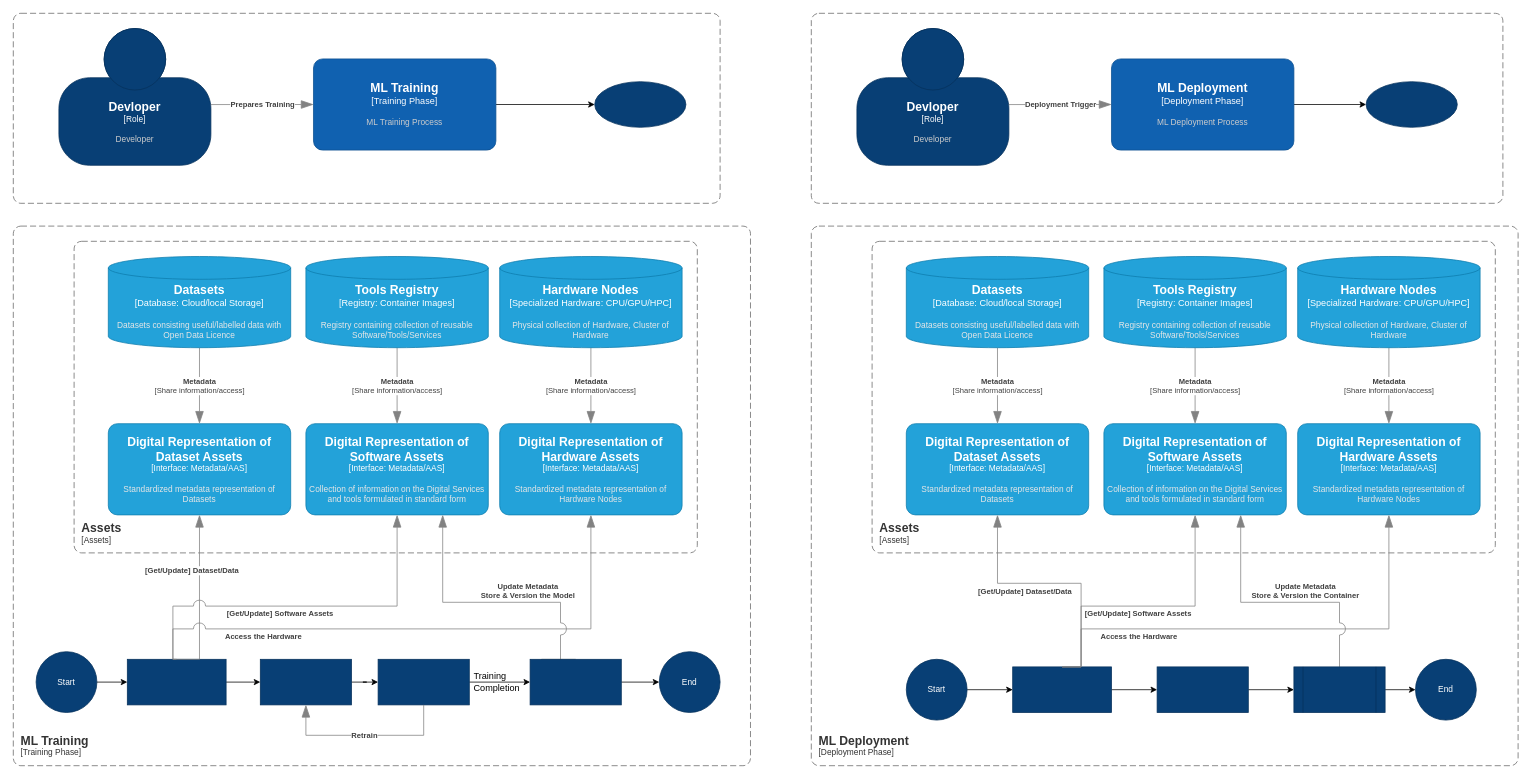
Some shapes in this 1531 by 779 pixel diagram are drawn without their labels. Each missing label, with the box of its shape:
Automatic Deployment Trigger (CI/CD): (1156, 666, 1248, 712)
Container Build & Push to Registry: (1293, 666, 1385, 712)
Deployed Model: (1365, 81, 1457, 127)
Deployment [Operation Phase]: (811, 13, 1503, 203)
Deployment Preparation: (1012, 666, 1112, 712)
Model Training: (260, 659, 352, 705)
ONNX Conversion: (529, 659, 621, 705)
Trained Model: (594, 81, 686, 127)
Training [Operation Phase]: (13, 13, 720, 203)
Training Preparation: (127, 659, 226, 705)
Validation: (377, 659, 469, 705)
